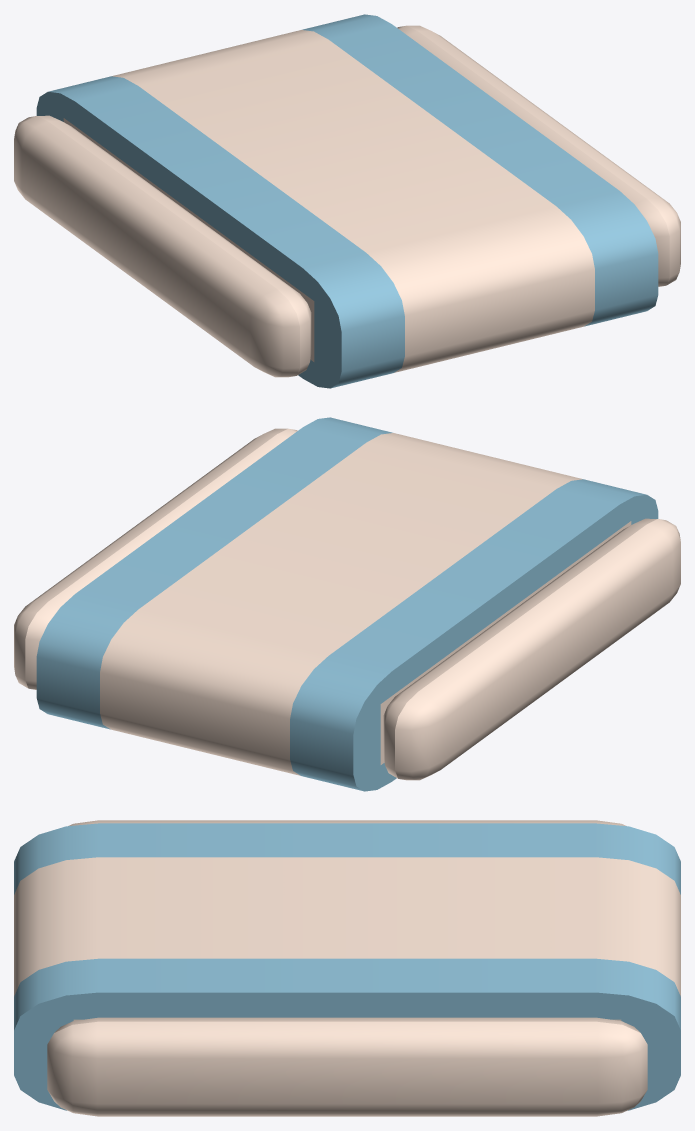
File: Props_Conveyor_Blue_03.fbx
3 views of the same model, one above another, from view 1: azimuth 30°, elevation 25°; view 2: azimuth 150°, elevation 25°; view 3: azimuth 270°, elevation 25° (orthographic). The views are drawn at different scales.
Visible parts, largest first — view 1: Props_Conveyor_Blue_03; view 2: Props_Conveyor_Blue_03; view 3: Props_Conveyor_Blue_03.
Boxes of the visible parts, x1,y1,x2,y2 form: Props_Conveyor_Blue_03: (14,14,680,388); Props_Conveyor_Blue_03: (14,417,680,791); Props_Conveyor_Blue_03: (14,820,680,1116).
Bounding box in the file's own units: 80 × 20 × 100.
